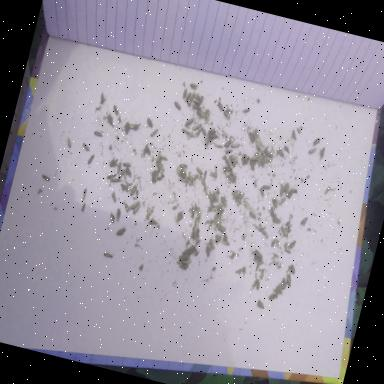pbw: (208, 164, 219, 178), (255, 138, 266, 152), (190, 122, 202, 134), (222, 160, 234, 172), (172, 100, 184, 112), (183, 116, 194, 129), (283, 273, 293, 287), (260, 142, 270, 156), (311, 136, 321, 150), (98, 92, 108, 106), (288, 128, 298, 142), (104, 114, 115, 126), (226, 156, 237, 168), (185, 171, 195, 184), (152, 169, 160, 185), (122, 122, 131, 136), (203, 109, 212, 123), (178, 168, 188, 180), (118, 183, 130, 193), (114, 207, 122, 222), (150, 169, 158, 184), (130, 199, 140, 211), (144, 117, 154, 129), (154, 162, 166, 172), (247, 212, 259, 222), (286, 238, 296, 250), (246, 132, 256, 144), (214, 224, 226, 234), (252, 128, 262, 140), (109, 190, 118, 203), (214, 209, 223, 222), (109, 156, 118, 169), (87, 152, 95, 166), (132, 202, 140, 216), (129, 184, 137, 198), (318, 146, 325, 162), (198, 126, 208, 137), (124, 167, 134, 178), (80, 142, 91, 152), (116, 226, 127, 236), (222, 110, 232, 121), (218, 196, 228, 207), (278, 226, 288, 237), (207, 238, 216, 250), (111, 104, 120, 116), (246, 161, 256, 171), (268, 292, 278, 302), (222, 138, 232, 148), (120, 200, 130, 210), (256, 299, 266, 309), (276, 148, 286, 158), (125, 202, 134, 213), (212, 212, 219, 226), (190, 246, 198, 258), (207, 132, 219, 140), (282, 228, 290, 240), (216, 100, 224, 112), (108, 212, 116, 224), (189, 102, 201, 110), (188, 90, 196, 102), (190, 226, 198, 238), (184, 91, 192, 103), (110, 177, 122, 185), (204, 246, 212, 258), (287, 187, 294, 200), (308, 147, 318, 156), (143, 146, 152, 156), (174, 166, 182, 177), (263, 150, 274, 158), (226, 175, 237, 183), (93, 130, 104, 138), (64, 137, 72, 148), (195, 110, 206, 118), (220, 238, 231, 246), (230, 142, 241, 150), (258, 187, 266, 198), (118, 168, 125, 180), (147, 219, 159, 226), (115, 162, 122, 174), (278, 186, 285, 198), (254, 278, 261, 290), (193, 218, 200, 230), (195, 166, 204, 175), (211, 192, 220, 201), (178, 162, 188, 170), (282, 182, 290, 192), (288, 264, 296, 274), (260, 154, 268, 164), (106, 172, 116, 180), (150, 128, 158, 138), (299, 216, 307, 226), (256, 149, 264, 159), (278, 196, 286, 206), (214, 204, 224, 212), (282, 144, 290, 154), (194, 94, 204, 102), (195, 207, 202, 218), (242, 106, 250, 115), (254, 260, 260, 272), (208, 200, 216, 209), (80, 188, 86, 200), (258, 268, 264, 280), (230, 190, 239, 198), (182, 88, 188, 100), (284, 186, 290, 198), (204, 134, 210, 146), (128, 123, 138, 130), (222, 166, 232, 173), (239, 156, 246, 166), (207, 192, 214, 202), (40, 174, 50, 181), (188, 83, 198, 90), (156, 152, 162, 163), (234, 196, 240, 207), (225, 148, 233, 156), (251, 153, 259, 161), (192, 99, 201, 106), (207, 128, 216, 135), (286, 265, 293, 274), (262, 232, 269, 241), (121, 162, 131, 168), (103, 252, 113, 258), (258, 229, 268, 235), (80, 202, 86, 212), (202, 170, 208, 180), (195, 128, 201, 138), (122, 170, 128, 180), (134, 189, 140, 199), (285, 224, 291, 234), (180, 128, 190, 134), (194, 228, 200, 238), (222, 232, 229, 240), (200, 178, 207, 186), (236, 198, 243, 206), (185, 176, 190, 187), (324, 186, 330, 195), (208, 218, 213, 228), (124, 181, 132, 187), (182, 258, 190, 264), (262, 184, 270, 190), (230, 154, 238, 160), (160, 155, 168, 161), (185, 100, 191, 107), (193, 173, 198, 181), (178, 178, 186, 182), (214, 144, 222, 148)
